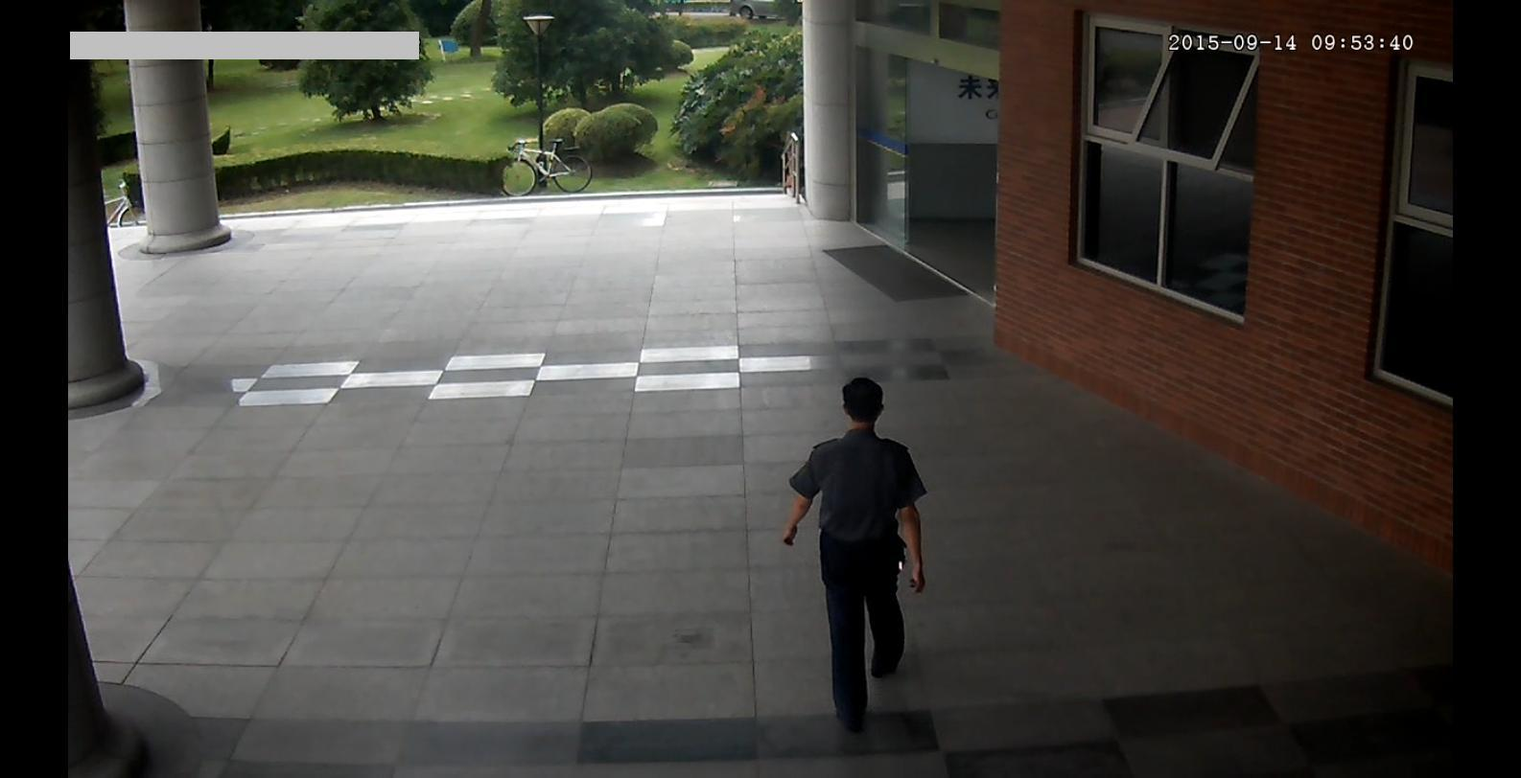person: (778, 366, 934, 737)
